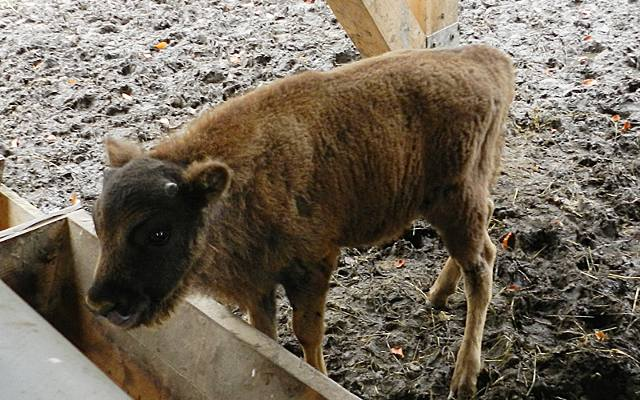zubr: (50, 24, 532, 400)
